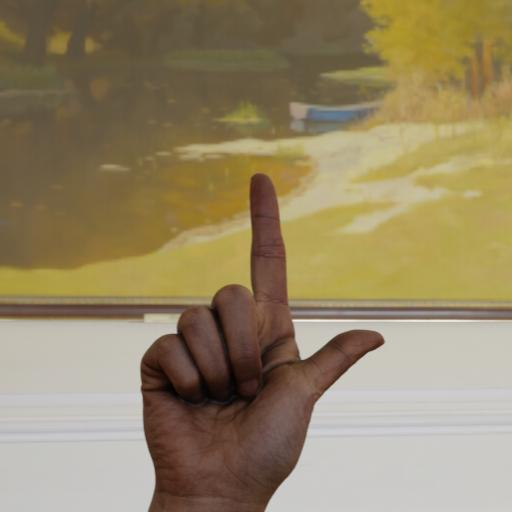L: (108, 148, 394, 512)
